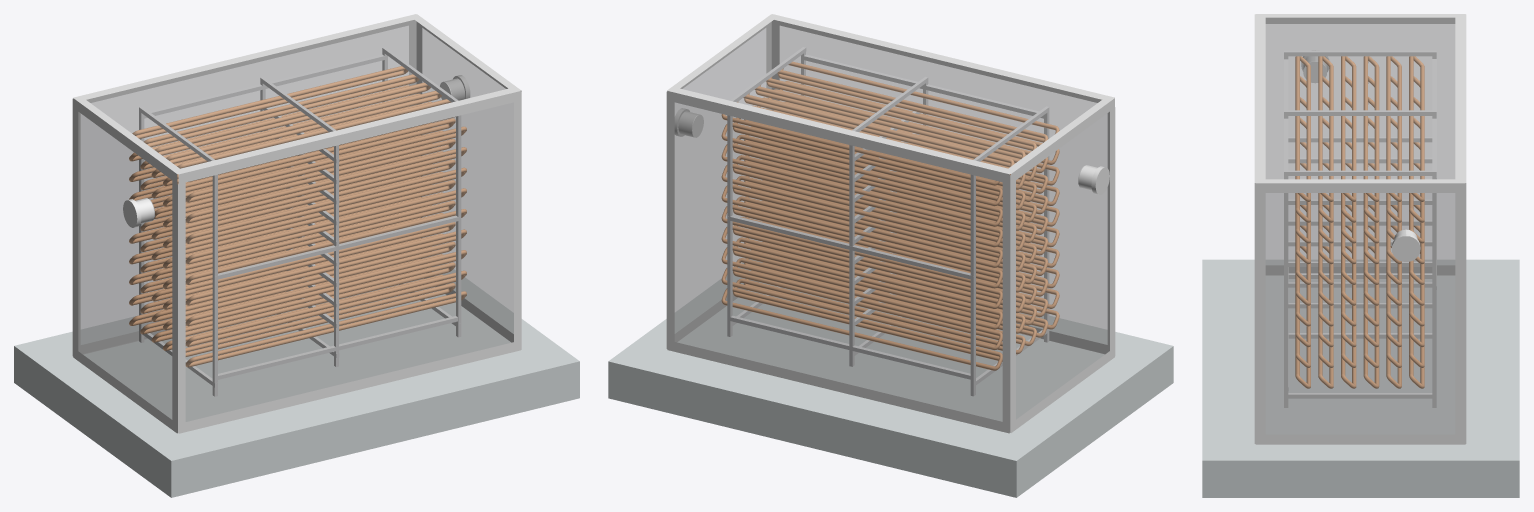
File: 蓄冰槽.glb
3 views of the same model, side by side, from view 1: azimuth 30°, elevation 25°; view 2: azimuth 150°, elevation 25°; view 3: azimuth 270°, elevation 25° (orthographic).
Parts seen in each view (by area): view 1: 透明壳, 铜管, 底座, 架子, 铜管架, 管口; view 2: 透明壳, 铜管, 底座, 架子, 铜管架, 管口; view 3: 透明壳, 底座, 铜管, 架子, 铜管架, 管口.
Boxes of the visible parts, <box> form: 透明壳: <box>78,20,513,421</box>; 铜管: <box>129,66,466,367</box>; 底座: <box>14,255,579,497</box>; 架子: <box>72,14,521,433</box>; 铜管架: <box>139,47,461,396</box>; 管口: <box>123,75,470,227</box>; 透明壳: <box>674,20,1109,421</box>; 铜管: <box>721,61,1059,370</box>; 底座: <box>608,259,1173,497</box>; 架子: <box>666,14,1115,433</box>; 铜管架: <box>727,47,1049,396</box>; 管口: <box>674,108,1109,194</box>; 透明壳: <box>1265,17,1465,434</box>; 底座: <box>1202,259,1519,497</box>; 铜管: <box>1295,56,1424,388</box>; 架子: <box>1254,14,1466,444</box>; 铜管架: <box>1284,50,1436,407</box>; 管口: <box>1301,50,1420,261</box>.
Size of the model in its own units: 150 by 104 by 100.
